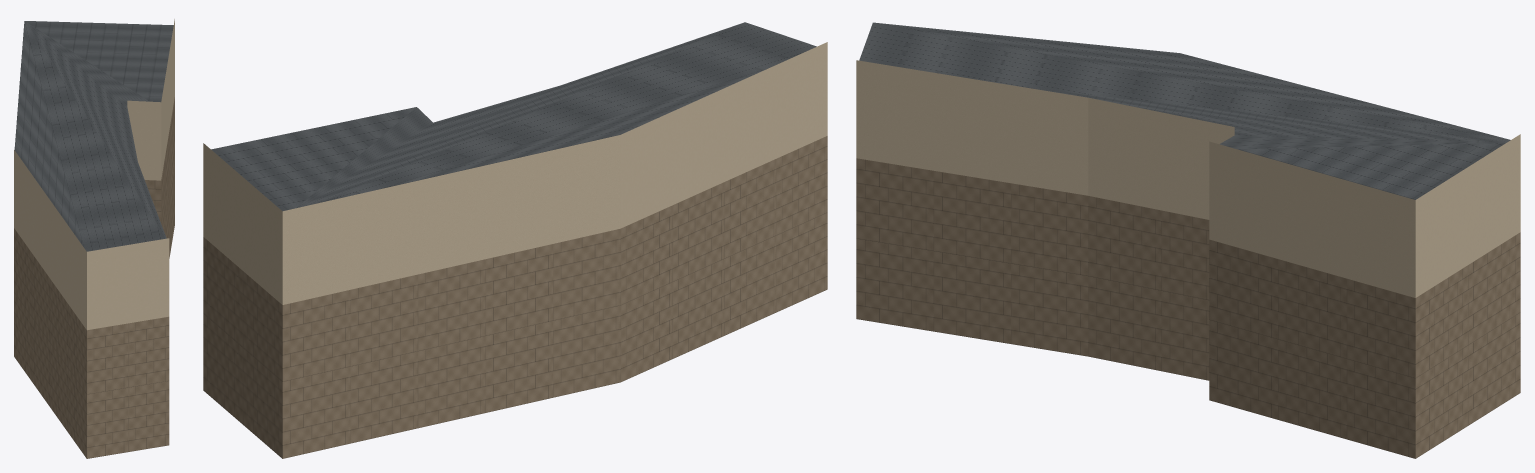
File: bld_c38_46_195.gltf
The picture shows the model from 3 angles, left to right: view 1: azimuth 30°, elevation 25°; view 2: azimuth 150°, elevation 25°; view 3: azimuth 270°, elevation 25°; orthographic projection. The views are drawn at different scales.
Visible parts, largest first — view 1: bld_c38_46_195; view 2: bld_c38_46_195; view 3: bld_c38_46_195.
Part boxes in pixels (x1=…): bld_c38_46_195: x1=14, y1=19, x2=174, y2=458; bld_c38_46_195: x1=203, y1=22, x2=827, y2=458; bld_c38_46_195: x1=856, y1=22, x2=1520, y2=458.
Bounding box in the file's own units: 11.22 × 7.28 × 16.93.
4 materials, 4 textured.
